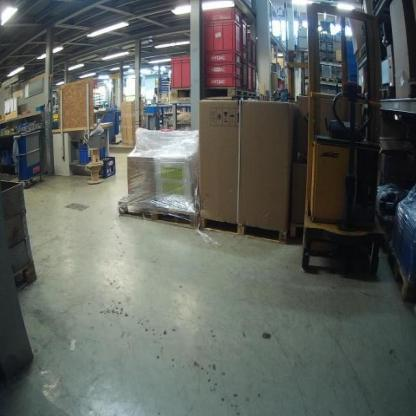pallets: (196, 213, 300, 247), (114, 194, 206, 231), (157, 86, 264, 107)
